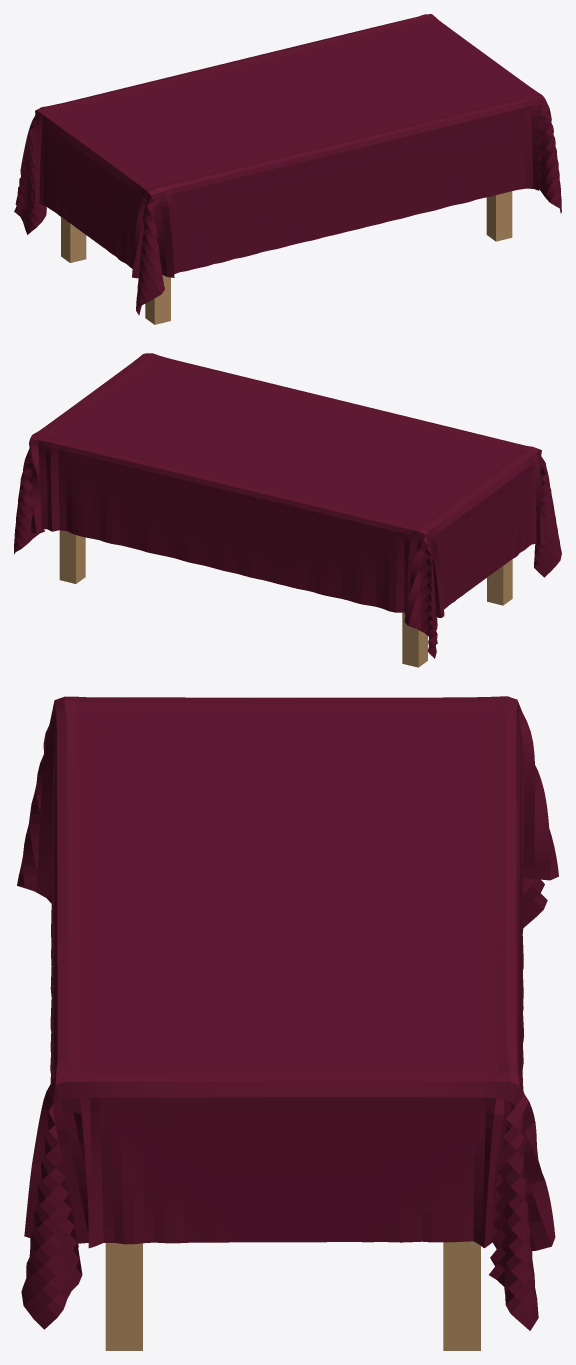
File: TableCloth_final.glb
The picture shows the model from 3 angles, top to bottom: view 1: azimuth 30°, elevation 25°; view 2: azimuth 150°, elevation 25°; view 3: azimuth 270°, elevation 25°; orthographic projection. The views are drawn at different scales.
Visible parts, largest first — view 1: TableCloth, Leg_3, Leg_2, Leg_4; view 2: TableCloth, Leg_1, Leg_2, Leg_4; view 3: TableCloth, Leg_1, Leg_3.
Boxes of the visible parts, left/top/right/bottom form: TableCloth: left=14, top=14, right=561, bottom=315; Leg_3: left=486, top=191, right=512, bottom=241; Leg_2: left=61, top=217, right=86, bottom=262; Leg_4: left=145, top=275, right=170, bottom=324; TableCloth: left=14, top=353, right=561, bottom=658; Leg_1: left=59, top=530, right=85, bottom=583; Leg_2: left=402, top=612, right=427, bottom=667; Leg_4: left=487, top=559, right=512, bottom=605; TableCloth: left=17, top=696, right=558, bottom=1330; Leg_1: left=443, top=1241, right=480, bottom=1350; Leg_3: left=105, top=1243, right=142, bottom=1350.
Size of the model in its own units: 2.62 by 0.8605 by 1.44.
